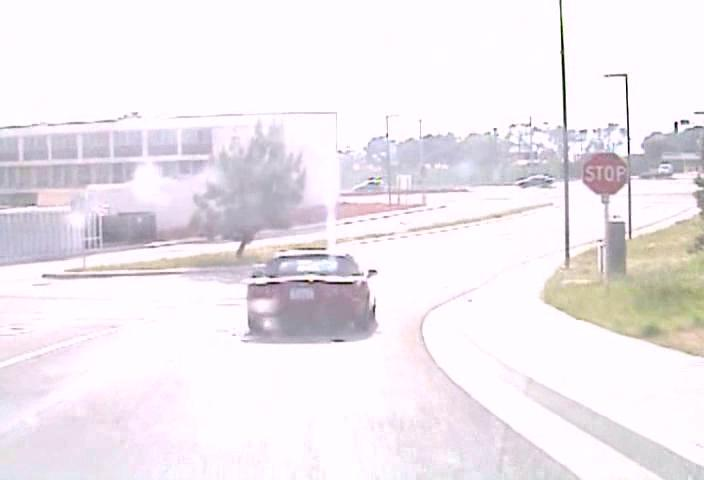stop: (582, 151, 627, 196)
